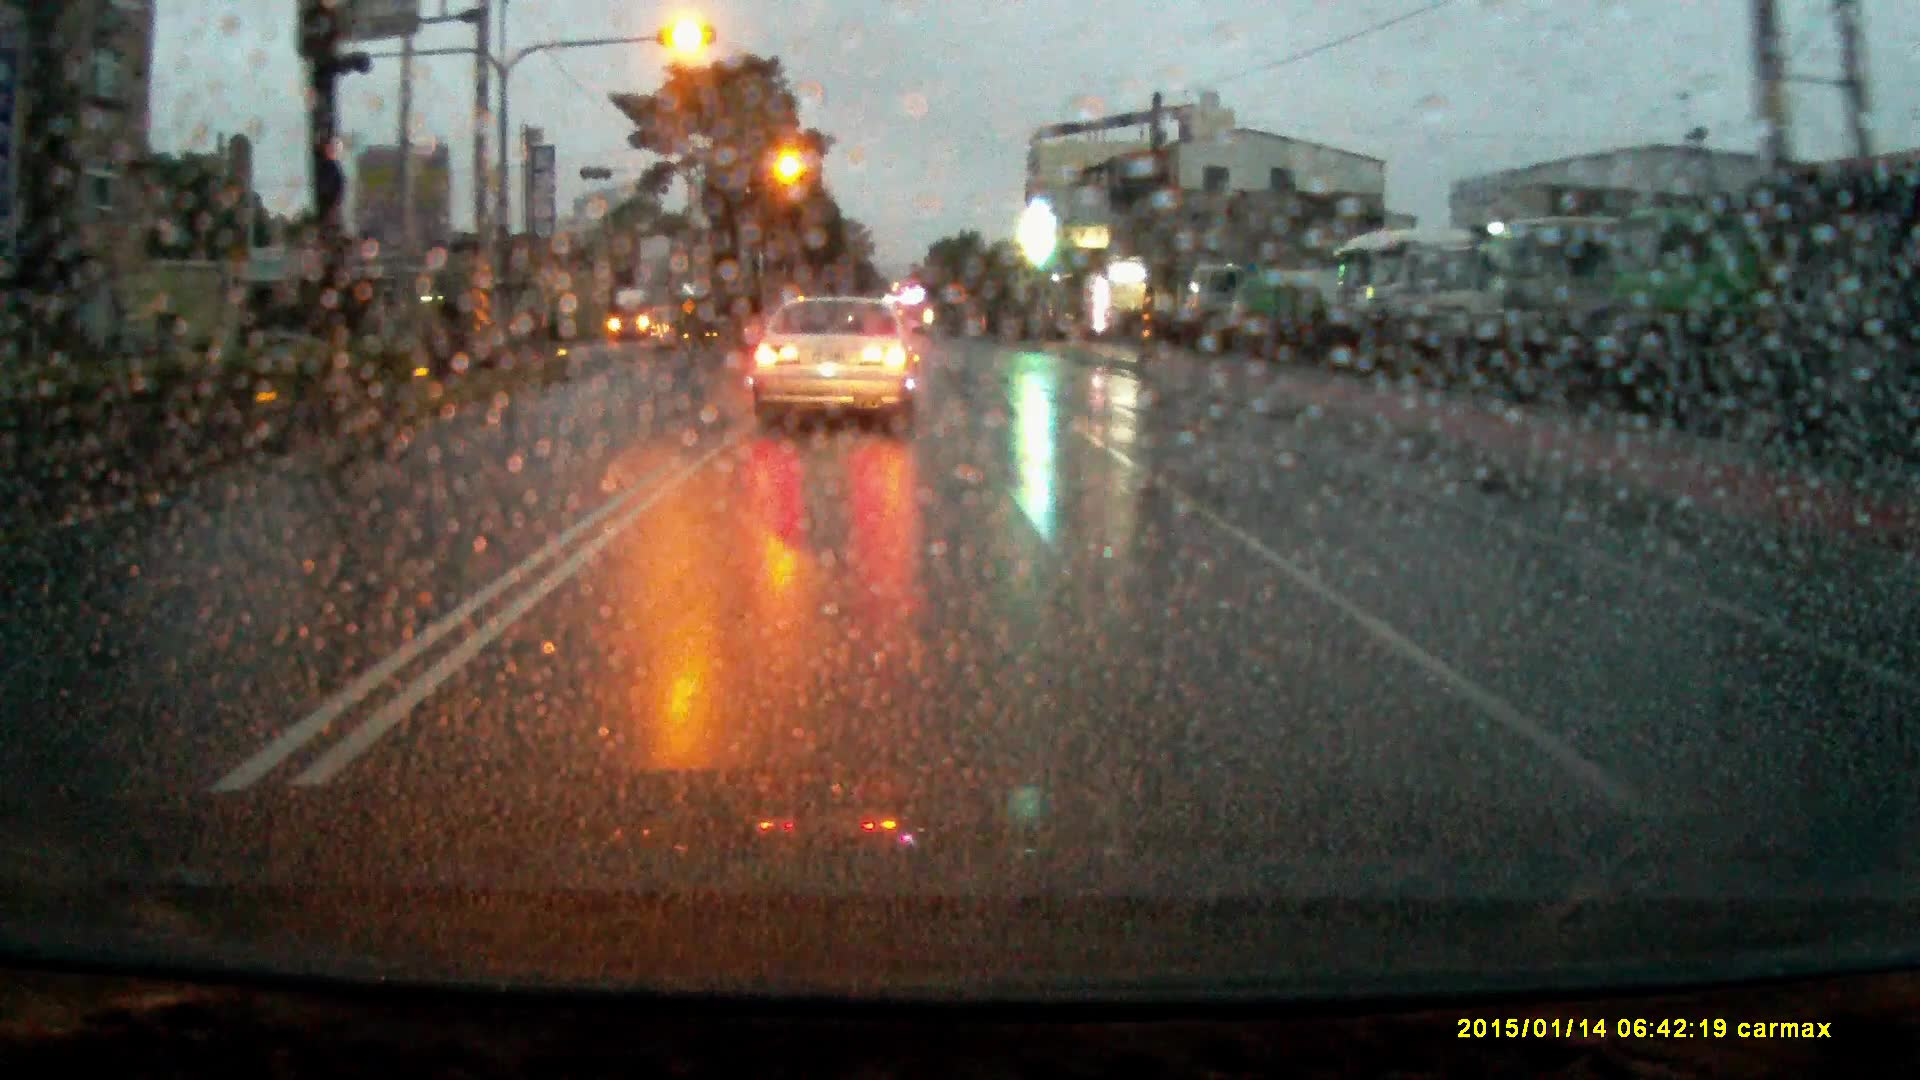vehicle: (1629, 200, 1766, 418), (750, 297, 923, 431), (1505, 214, 1626, 397), (1399, 227, 1505, 368), (1335, 237, 1424, 345), (1225, 272, 1361, 334), (1189, 264, 1251, 330), (611, 287, 671, 342)
